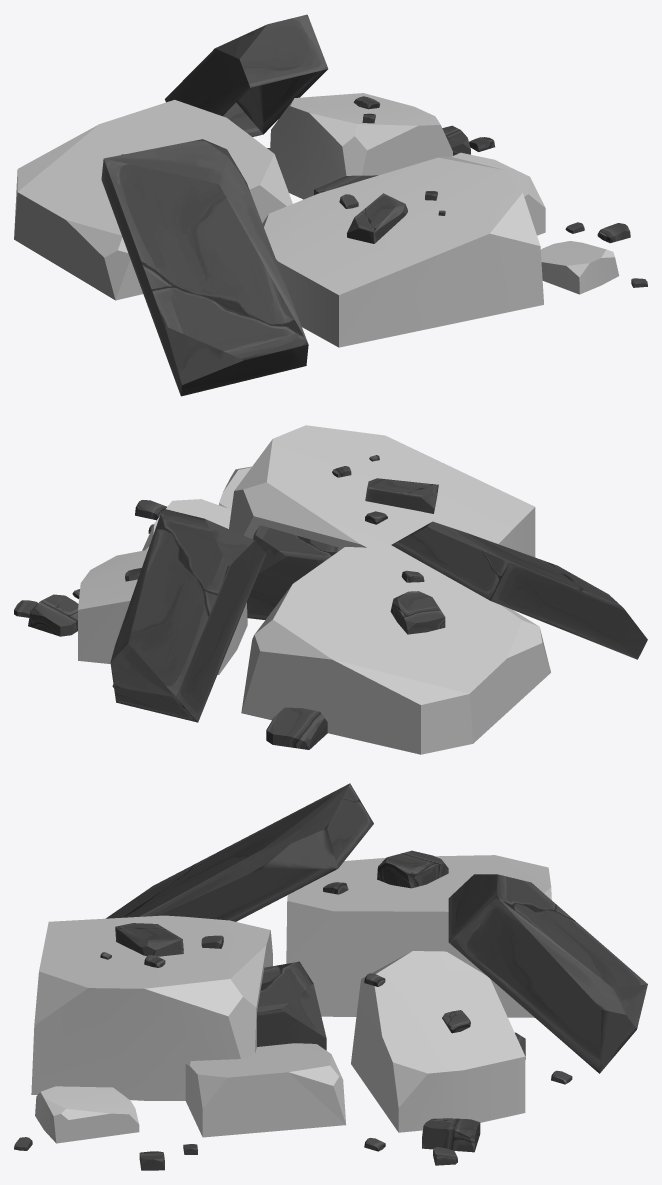
The model's file is SM_ModularKit_RubbleBig.fbx.
The picture shows the model from 3 angles, top to bottom: view 1: azimuth 30°, elevation 25°; view 2: azimuth 150°, elevation 25°; view 3: azimuth 270°, elevation 25°; orthographic projection. The views are drawn at different scales.
Visible parts, largest first — view 1: RubbleBig; view 2: RubbleBig; view 3: RubbleBig.
Part boxes in pixels (<box>): RubbleBig: <box>14,14,647,396</box>; RubbleBig: <box>14,425,647,754</box>; RubbleBig: <box>14,783,647,1170</box>.
Size of the model in its own units: 239 by 94.71 by 243.
